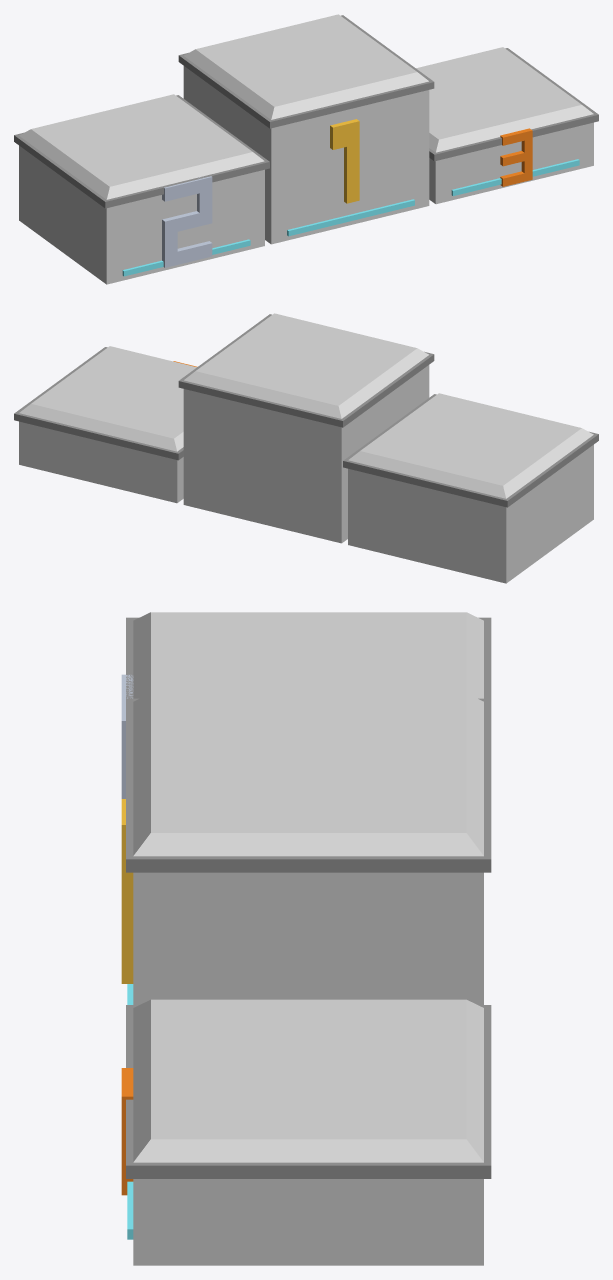
File: podium.obj
3 views of the same model, one above another, from view 1: azimuth 30°, elevation 25°; view 2: azimuth 150°, elevation 25°; view 3: azimuth 270°, elevation 25° (orthographic). The views are drawn at different scales.
Size of the model in its own units: 7.8 by 2 by 2.53.
